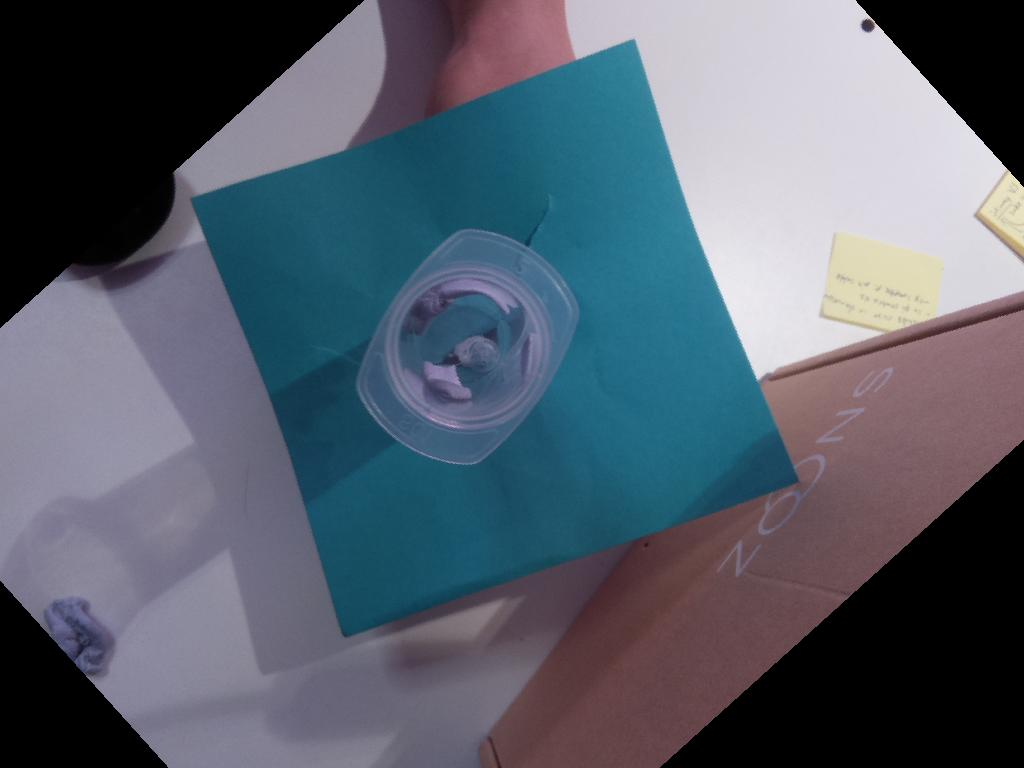dirty: (354, 229, 579, 467)
